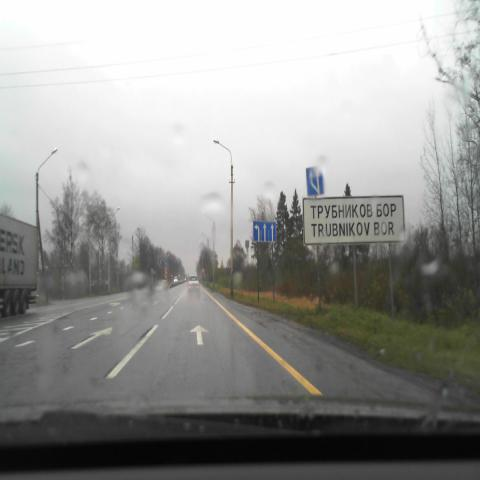5_15_1: (253, 221, 276, 241)
5_15_3: (306, 168, 324, 196)
